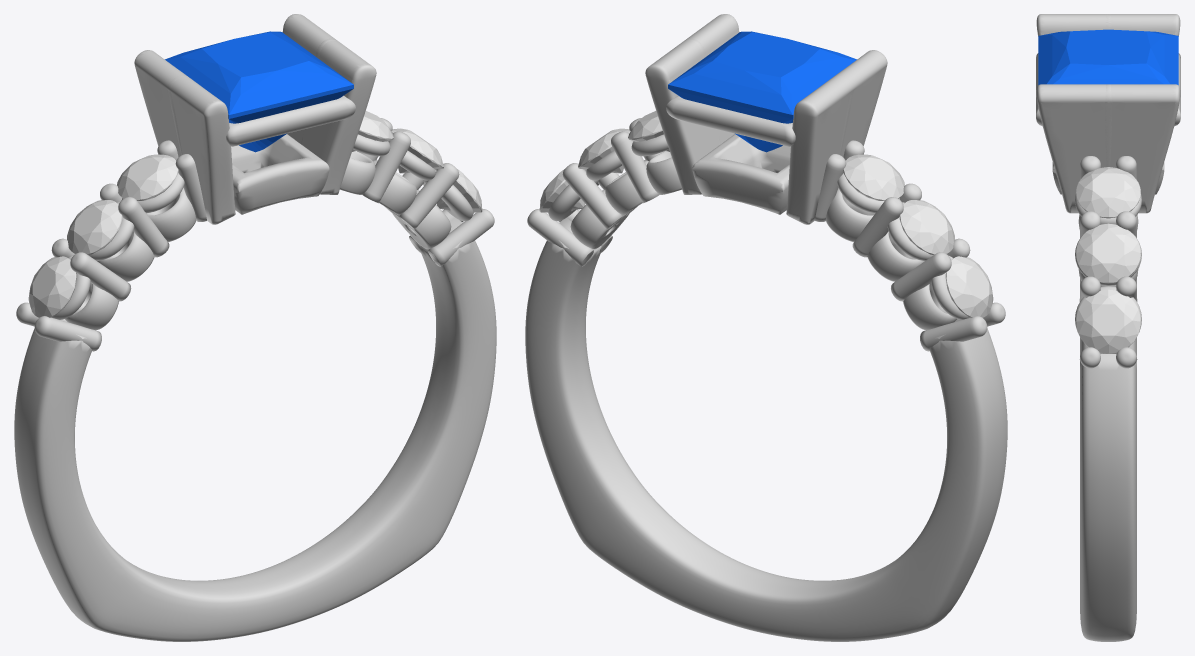
File: bluesapphire-princess-platinum-halfmoonbezel-europeanshank-7stone.glb
3 views of the same model, side by side, from view 1: azimuth 30°, elevation 25°; view 2: azimuth 150°, elevation 25°; view 3: azimuth 270°, elevation 25° (orthographic). The views are drawn at different scales.
Parts seen in each view (by area): view 1: metal, stone, side.001, side, side.002, side.004, side.003, side.005; view 2: metal, stone, side.001, side, side.002, side.004, side.003, side.005; view 3: metal, stone, side.005, side.004, side.003.
Part boxes in pixels (left/top/right/bottom): metal: left=14, top=14, right=496, bottom=641; stone: left=165, top=31, right=353, bottom=152; side.001: left=67, top=200, right=122, bottom=254; side: left=28, top=256, right=76, bottom=317; side.002: left=117, top=154, right=178, bottom=200; side.004: left=391, top=128, right=443, bottom=173; side.003: left=352, top=111, right=393, bottom=151; side.005: left=436, top=169, right=482, bottom=212; metal: left=525, top=14, right=1007, bottom=641; stone: left=668, top=31, right=856, bottom=152; side.001: left=899, top=200, right=954, bottom=254; side: left=945, top=256, right=993, bottom=317; side.002: left=843, top=154, right=904, bottom=200; side.004: left=578, top=128, right=630, bottom=173; side.003: left=628, top=111, right=669, bottom=151; side.005: left=539, top=169, right=586, bottom=212; metal: left=1036, top=14, right=1180, bottom=641; stone: left=1038, top=29, right=1178, bottom=85; side.005: left=1076, top=289, right=1140, bottom=353; side.004: left=1076, top=223, right=1140, bottom=283; side.003: left=1076, top=167, right=1140, bottom=218.
Bounding box in the file's own units: 20.11 × 23.65 × 5.6.
